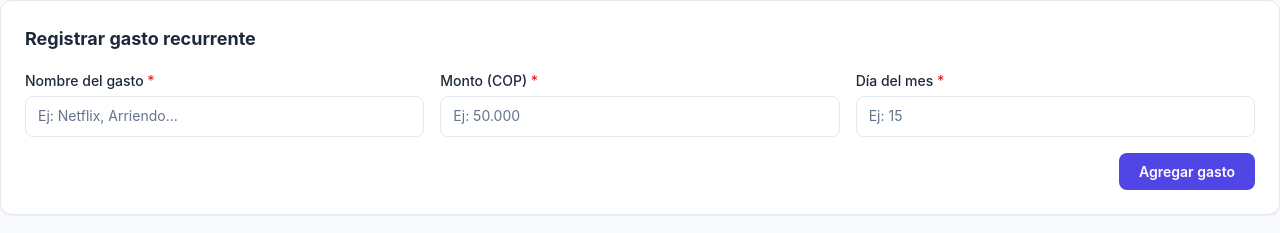
Test: ExpenseForm — formateo de monto en COP › ignora caracteres no numéricos al escribir
The width and height of the screenshot is (1280, 233).
In the field labelled "Monto (COP)": (640,116) [440,96,840,137], type "1abc2"
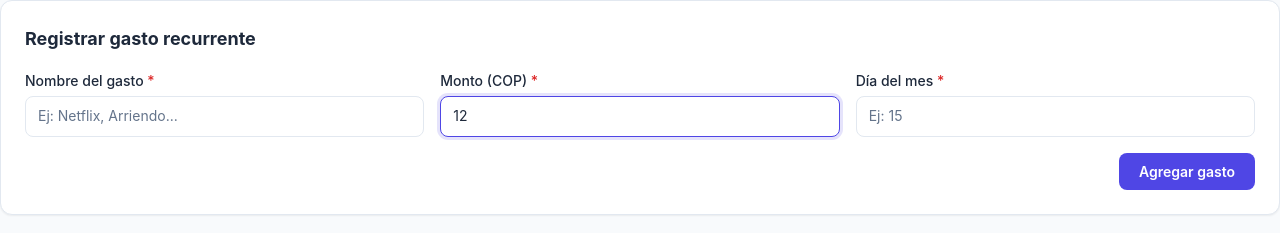
Check: the field labelled "Monto (COP)" holds "12", box [440,96,840,137]
